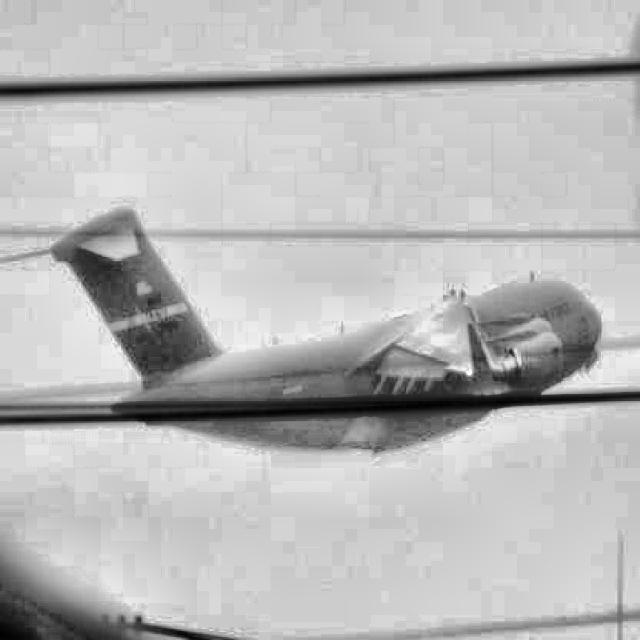C17: (0, 206, 602, 457)
